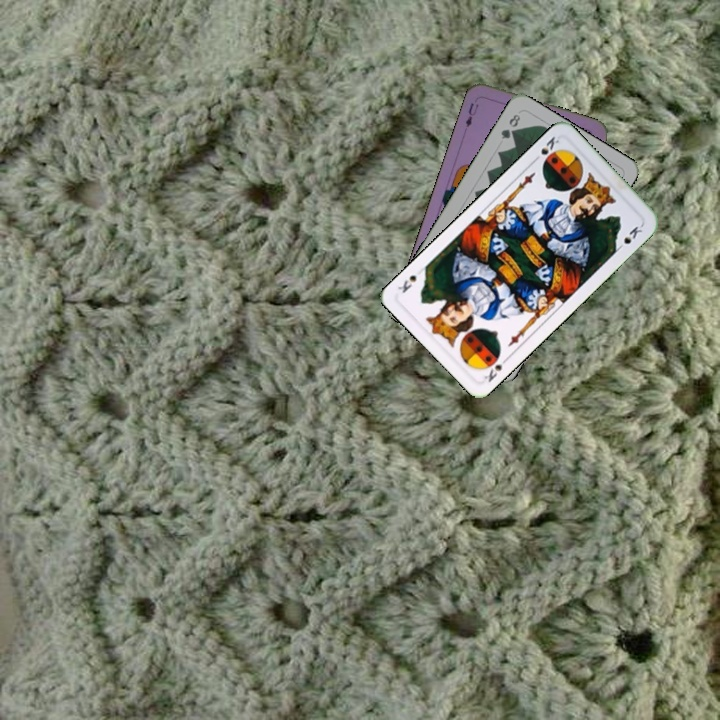EU: (461, 99, 481, 130)
G8: (497, 110, 523, 142)
SK: (479, 349, 512, 385), (529, 132, 562, 165)
